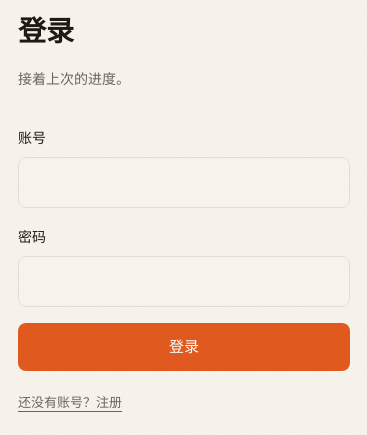
Test: AuthPage › 登录与注册同页切换
Click the button "还没有账号？注册": point(70, 404) left=18, top=392, right=122, bottom=416
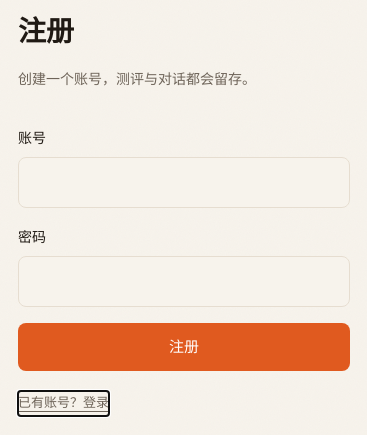
Check: the heading "注册" is shown, box left=18, top=16, right=74, bottom=47
